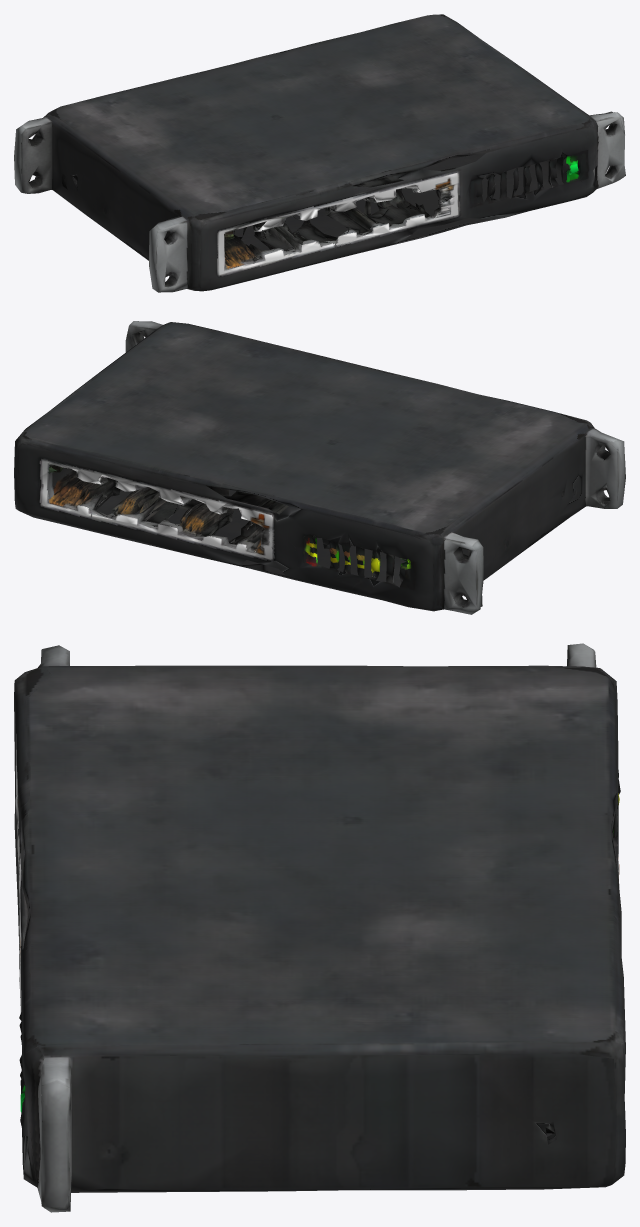
The model's file is computerlab_NetworkSwitch.glb.
3 views of the same model, one above another, from view 1: azimuth 30°, elevation 25°; view 2: azimuth 150°, elevation 25°; view 3: azimuth 270°, elevation 25° (orthographic). The views are drawn at different scales.
Visible parts, largest first — view 1: world; view 2: world; view 3: world.
Part boxes in pixels (x1,y1,x2,y2): world: [14, 14, 625, 292]; world: [14, 321, 625, 614]; world: [14, 643, 625, 1212].
Bounding box in the file's own units: 1 × 0.1546 × 0.5778.
1 material, 1 textured.
